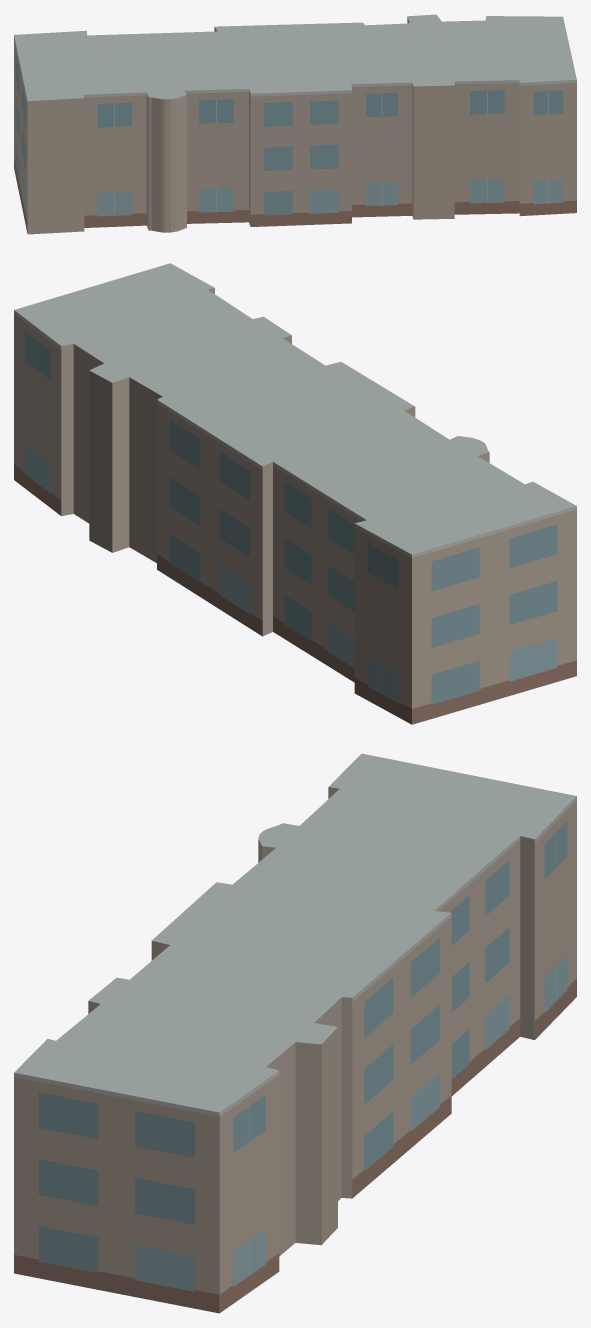
File: survey-upis-32895760.glb
The picture shows the model from 3 angles, top to bottom: view 1: azimuth 30°, elevation 25°; view 2: azimuth 150°, elevation 25°; view 3: azimuth 270°, elevation 25°; orthographic projection. The views are drawn at different scales.
Visible parts, largest first — view 1: survey-upis-32895760.tmp; view 2: survey-upis-32895760.tmp; view 3: survey-upis-32895760.tmp.
Boxes of the visible parts, box(x1,y1,x2,y2) form: survey-upis-32895760.tmp: box(14, 14, 576, 234); survey-upis-32895760.tmp: box(14, 263, 576, 724); survey-upis-32895760.tmp: box(14, 753, 576, 1313).
Bounding box in the file's own units: 44.11 × 11.5 × 29.22.
